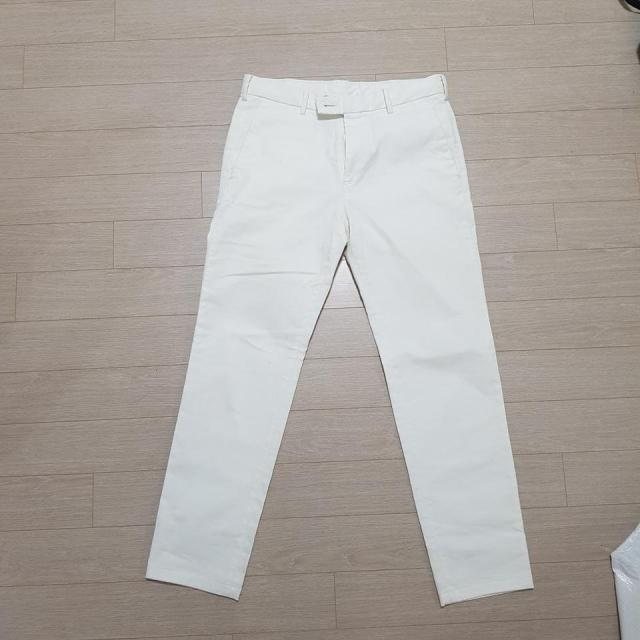long-pants: (149, 70, 535, 608)
